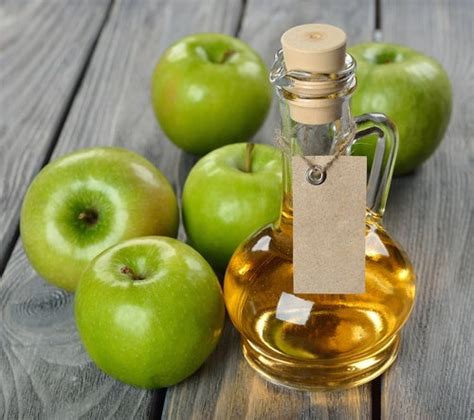apple: (69, 232, 232, 389), (17, 147, 182, 294), (338, 40, 454, 178), (151, 28, 270, 151), (182, 137, 287, 252)
